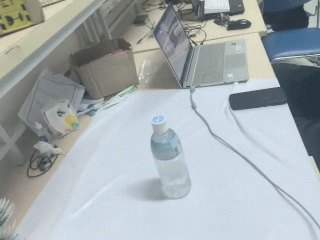bottle: (149, 115, 190, 200)
box: (66, 39, 139, 100)
mouse: (227, 18, 251, 31)
phone: (228, 85, 288, 112)
